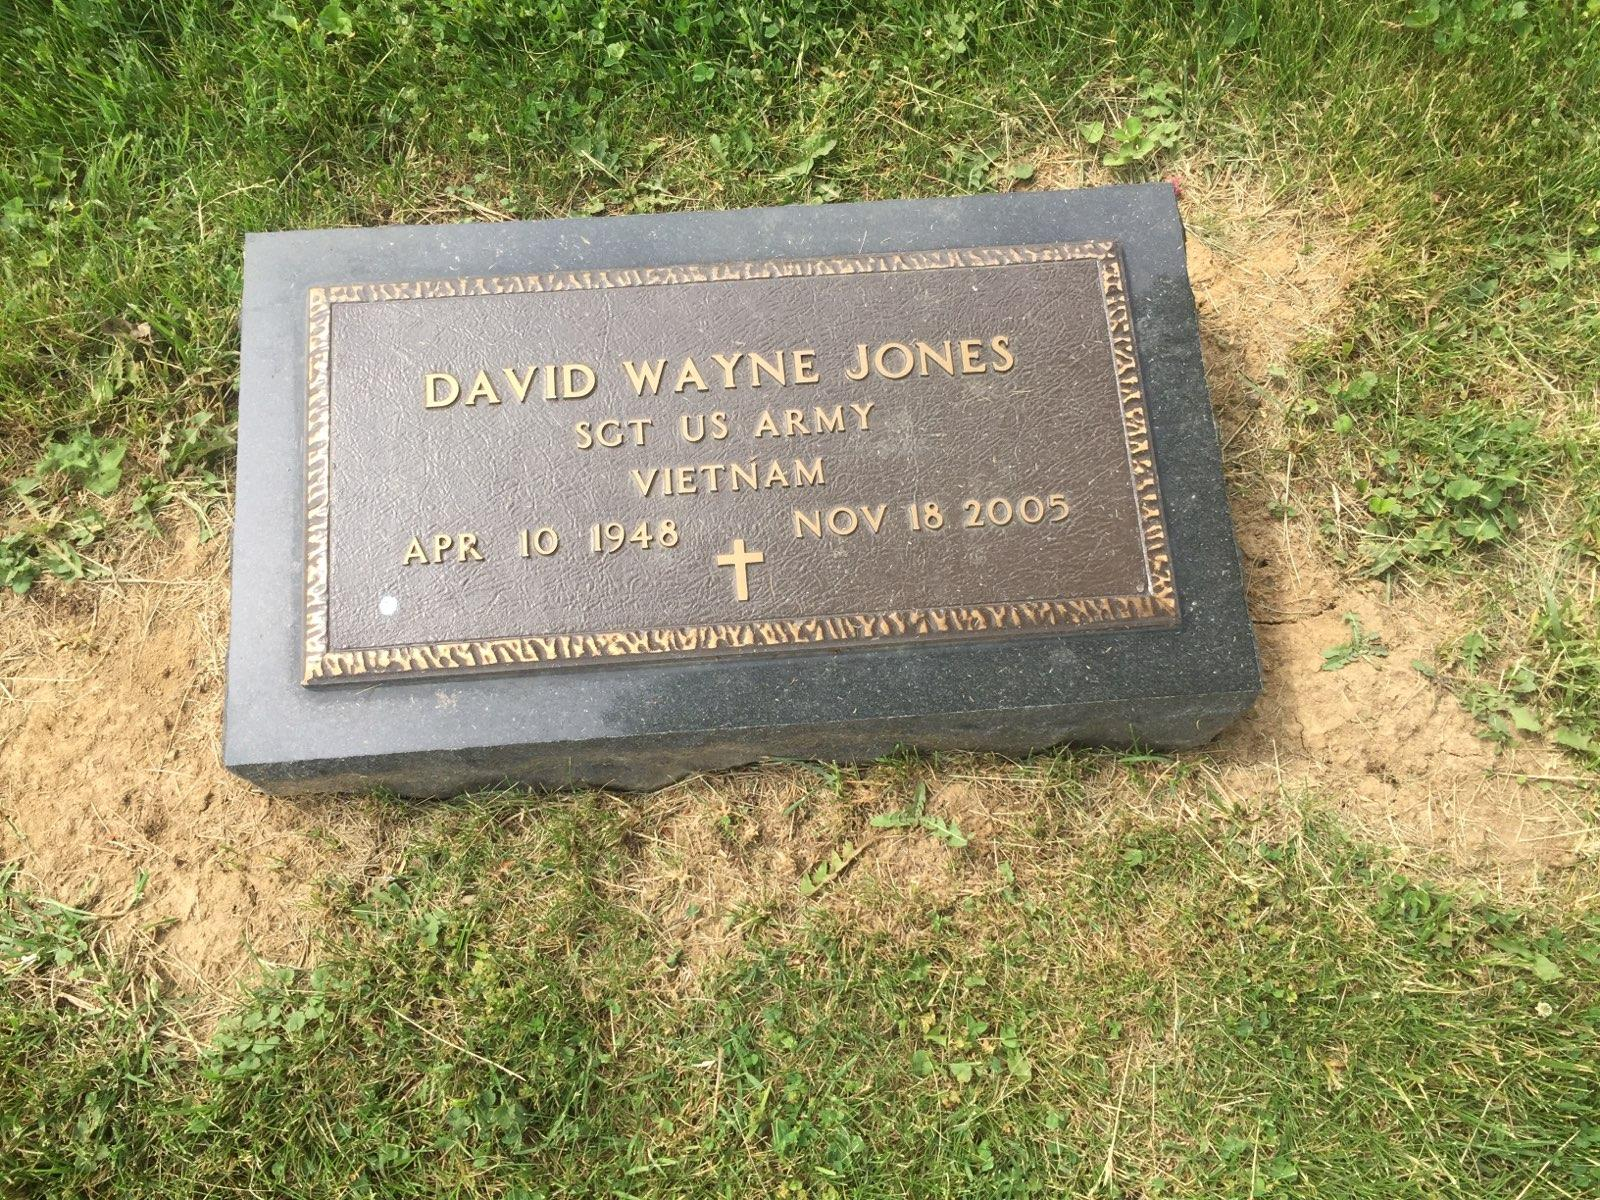flat: (210, 179, 1255, 799)
